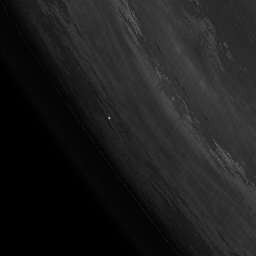Target: (107, 115, 112, 119)
